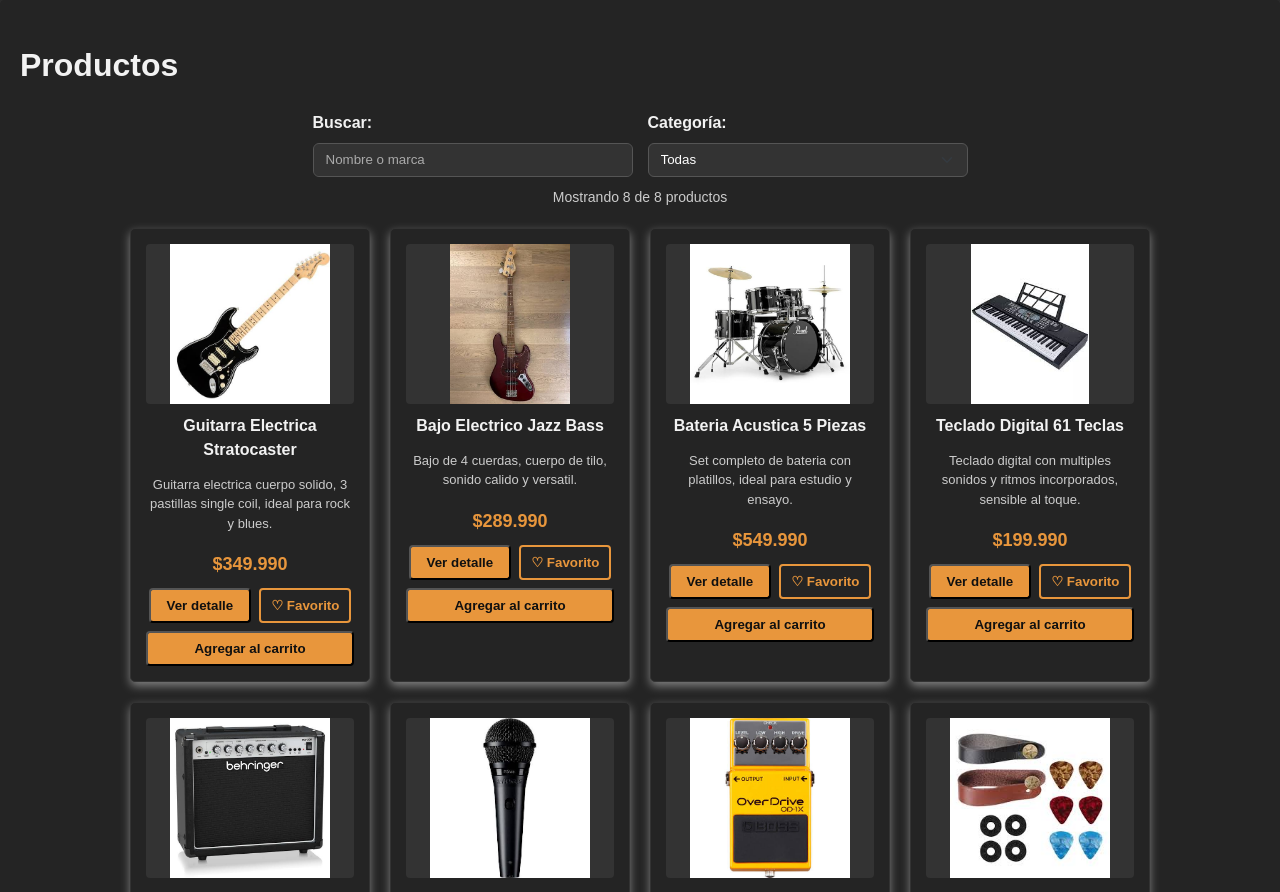
Test case: Página Productos › PU-035: el filtro por categoría deja solo los productos de esa categoría
This screenshot has width=1280, height=892.
Select "Pedales" in the dropdown labelled "Categoría:" at (808, 160), box [648,143,968,177]
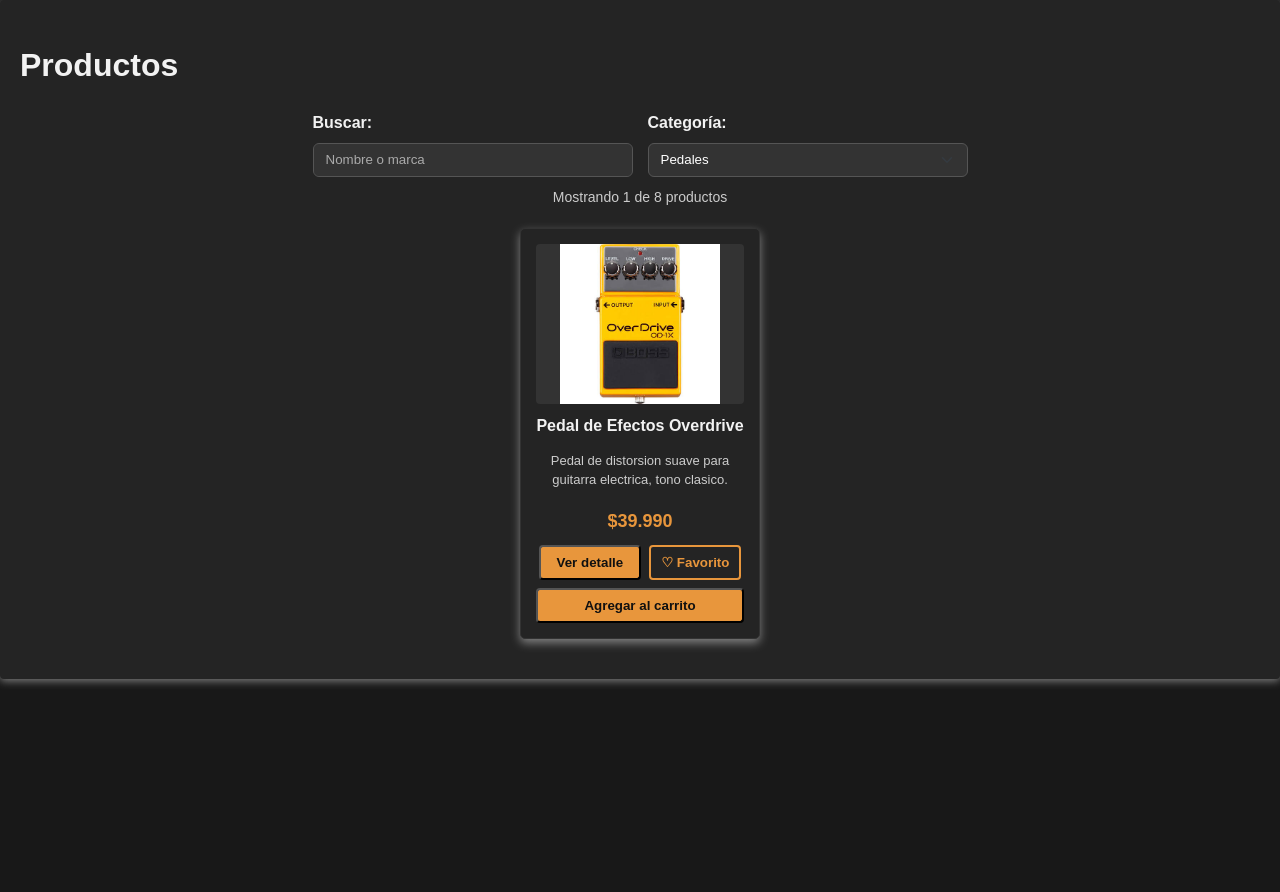
Check: the heading "Pedal de Efectos Overdrive" is shown, box [536,414,744,438]
Check: the text "Mostrando 1 de 8 productos" is shown, box [553,189,727,205]
